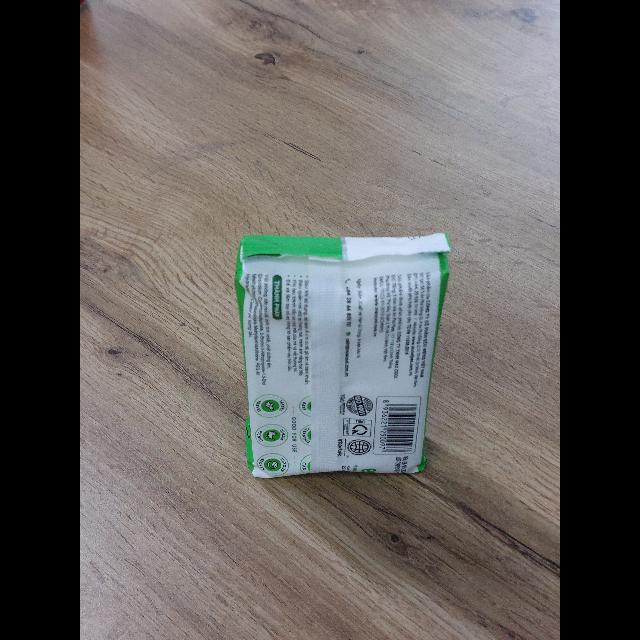khan_giay: (233, 233, 450, 481)
